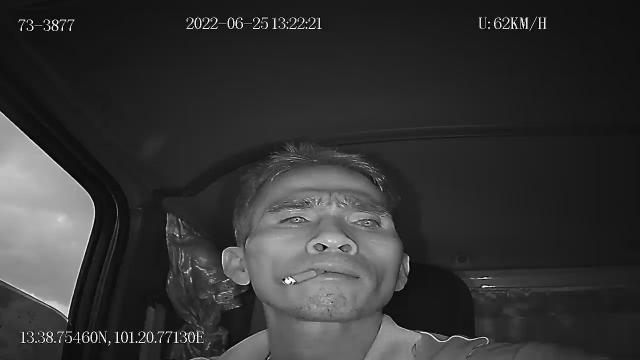SafeDriving: (342, 209, 390, 234), (270, 207, 318, 232)
Smoking: (280, 269, 324, 285)
